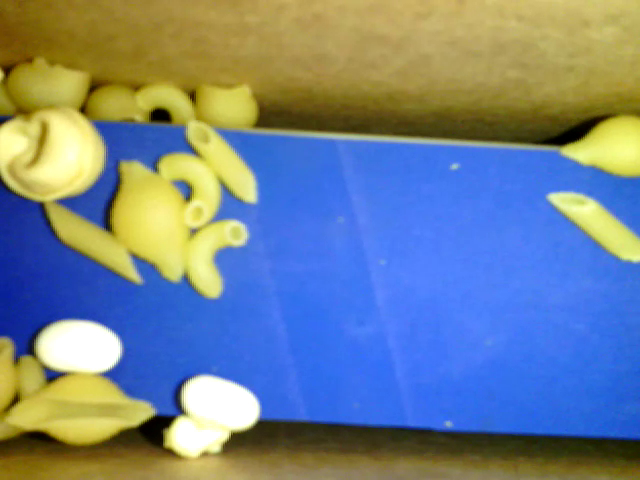elbow: (183, 215, 249, 299), (155, 149, 222, 226), (1, 355, 46, 437), (137, 81, 196, 123)
penne: (47, 202, 141, 283), (546, 189, 639, 262), (185, 121, 259, 204)
shell: (110, 156, 199, 282), (6, 374, 155, 446), (555, 114, 639, 184), (6, 58, 91, 112), (192, 81, 258, 130), (83, 81, 153, 123)
tortellini: (1, 104, 108, 202)
